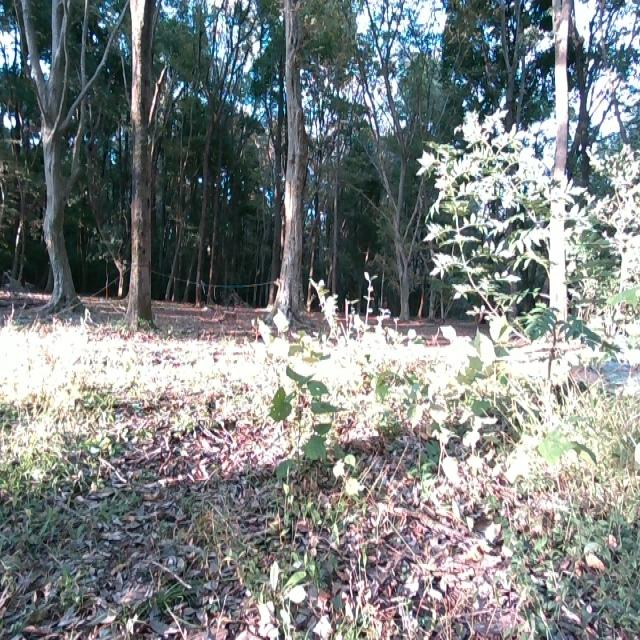bush: (428, 109, 640, 503)
tree: (20, 0, 87, 322), (264, 0, 318, 334), (125, 0, 165, 340), (543, 0, 574, 326), (381, 146, 420, 328)
